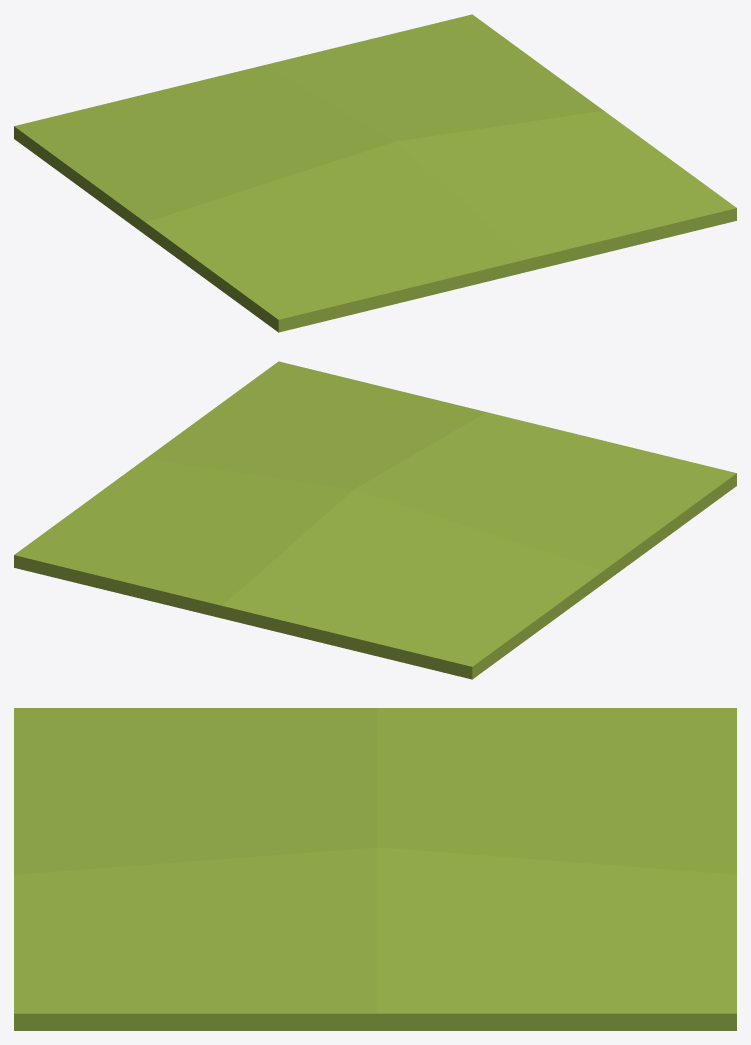
Rendered from FloorBlock_05.glb.
3 views of the same model, one above another, from view 1: azimuth 30°, elevation 25°; view 2: azimuth 150°, elevation 25°; view 3: azimuth 270°, elevation 25° (orthographic). The views are drawn at different scales.
Parts seen in each view (by area): view 1: Floor_Block_05; view 2: Floor_Block_05; view 3: Floor_Block_05.
Part boxes in pixels (x1,y1,x2,y2): Floor_Block_05: [14, 14, 736, 332]; Floor_Block_05: [14, 361, 736, 679]; Floor_Block_05: [14, 708, 736, 1030].
Size of what is drawn, in the model's own units: 2 by 0.1364 by 2.
Materials: 1 (1 with a texture image).
